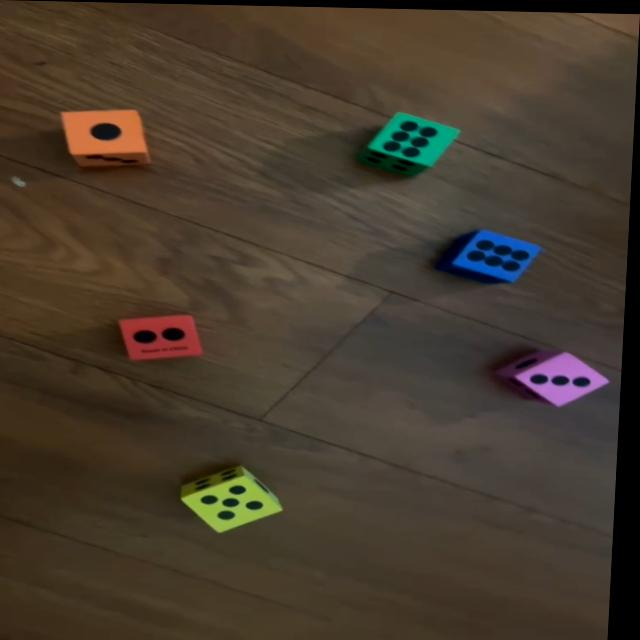cube: (361, 110, 462, 174), (445, 226, 547, 282), (121, 311, 209, 362)
